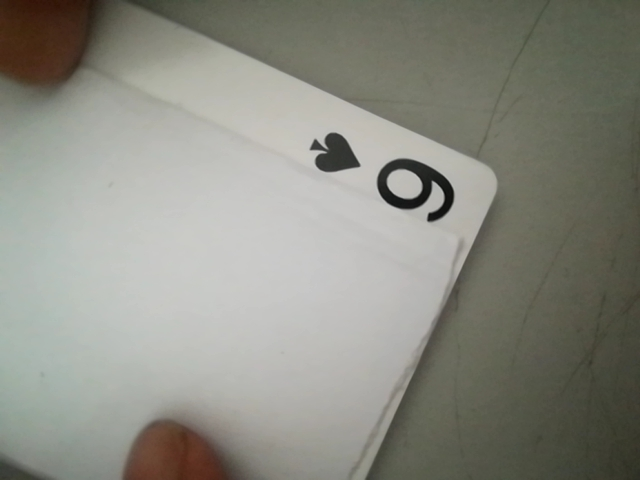ht 6: (292, 128, 480, 233)
